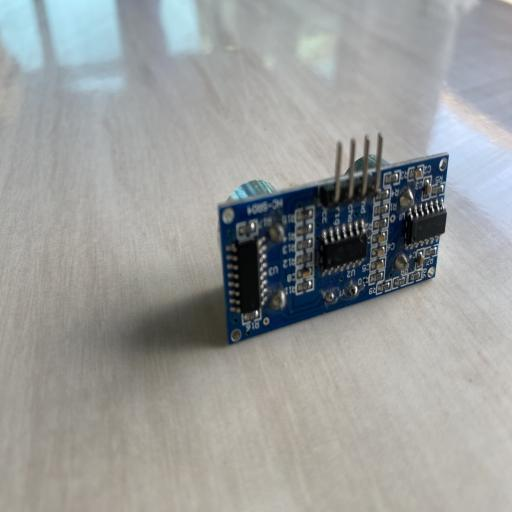Ultrasonic Sensor: (217, 130, 450, 344)
